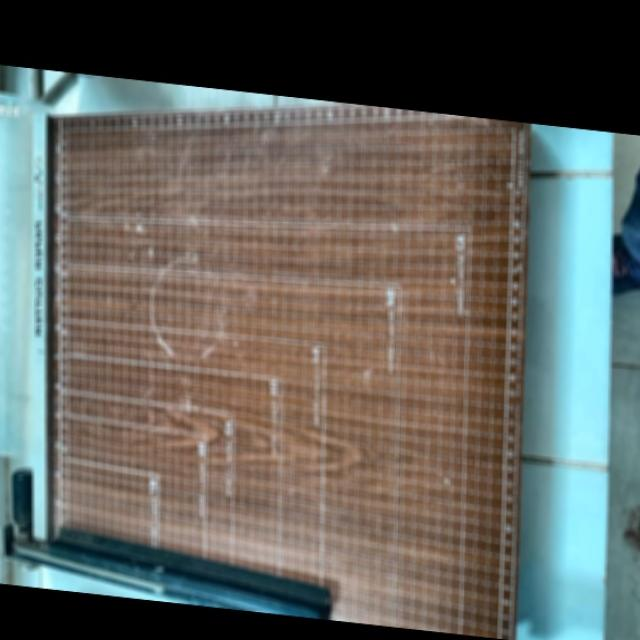TLC Cutter: (0, 82, 581, 640)
